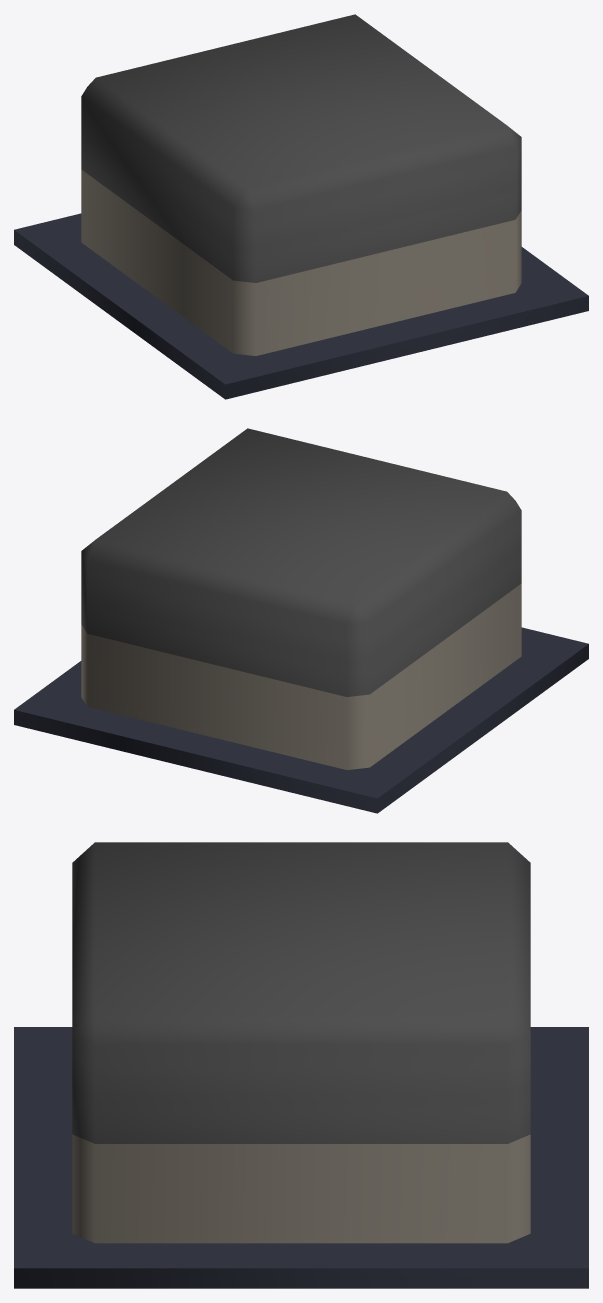
File: RoofAdd_2_A_5.fbx
3 renders of one model, top to bottom at view 1: azimuth 30°, elevation 25°; view 2: azimuth 150°, elevation 25°; view 3: azimuth 270°, elevation 25°, orthographic. The views are drawn at different scales.
Parts seen in each view (by area): view 1: RoofAdd_2_A_5; view 2: RoofAdd_2_A_5; view 3: RoofAdd_2_A_5.
Boxes of the visible parts, x1=… form: RoofAdd_2_A_5: x1=14, y1=14, x2=588, y2=399; RoofAdd_2_A_5: x1=14, y1=428, x2=588, y2=813; RoofAdd_2_A_5: x1=14, y1=842, x2=588, y2=1288.
Bounding box in the file's own units: 160 × 74.17 × 161.
